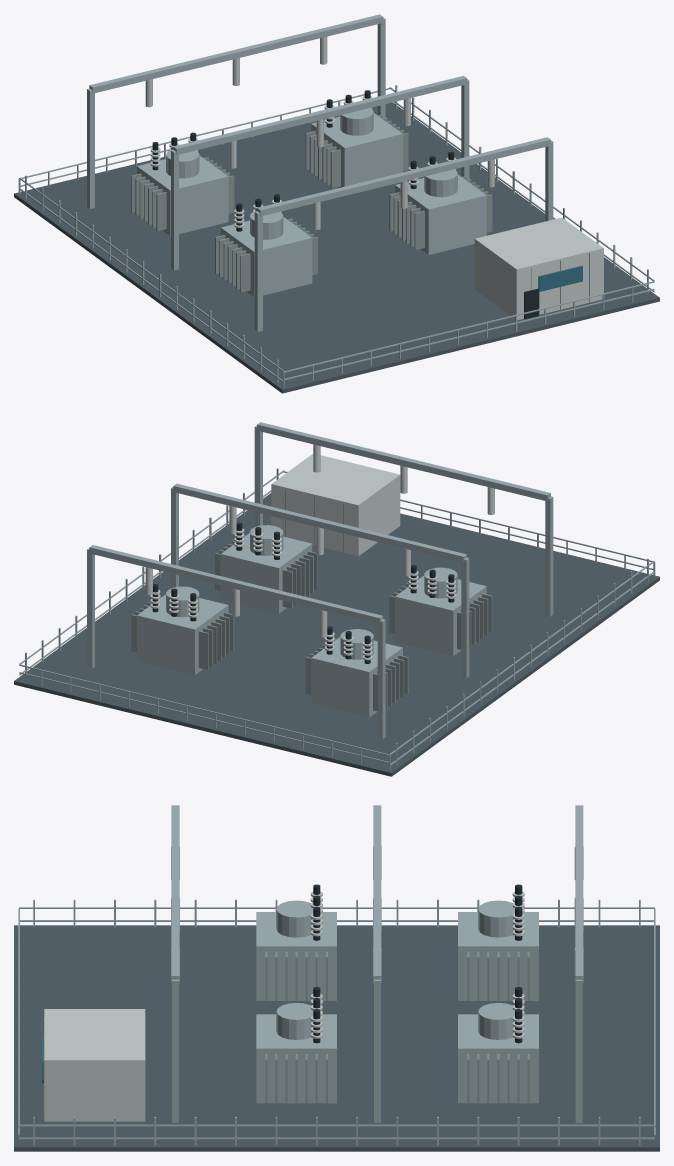
Rendered from substation.glb.
The picture shows the model from 3 angles, top to bottom: view 1: azimuth 30°, elevation 25°; view 2: azimuth 150°, elevation 25°; view 3: azimuth 270°, elevation 25°; orthographic projection. The views are drawn at different scales.
Parts seen in each view (by area): view 1: Yard, Transformers, Gantries, ControlBuilding; view 2: Yard, Transformers, Gantries, ControlBuilding; view 3: Yard, Transformers, ControlBuilding, Gantries.
Part boxes in pixels (x1,y1,x2,y2): Yard: [14, 85, 659, 393]; Transformers: [131, 90, 492, 297]; Gantries: [87, 14, 553, 331]; ControlBuilding: [474, 217, 603, 320]; Yard: [14, 468, 659, 776]; Transformers: [131, 522, 492, 717]; Gantries: [87, 422, 553, 739]; ControlBuilding: [271, 454, 400, 556]; Yard: [14, 899, 659, 1151]; Transformers: [256, 884, 538, 1103]; ControlBuilding: [42, 1009, 145, 1121]; Gantries: [171, 805, 583, 1122].
Bounding box in the file's own units: 26 × 8.2 × 32.
